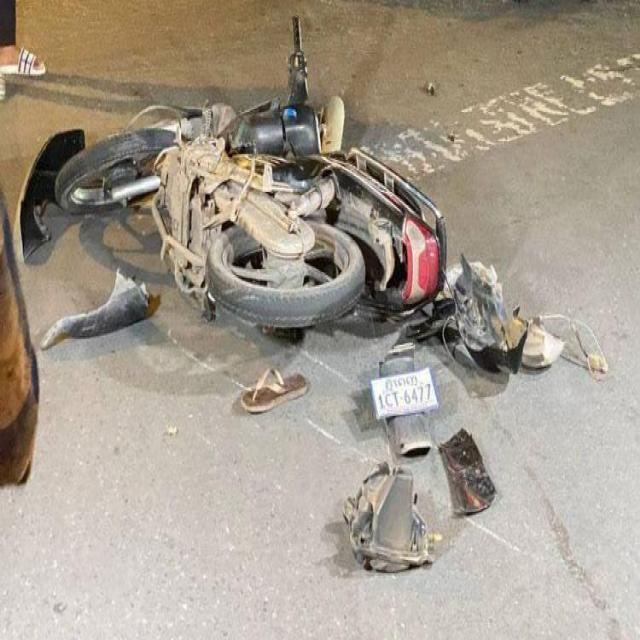Phnom_Penh: (385, 375, 418, 392)
